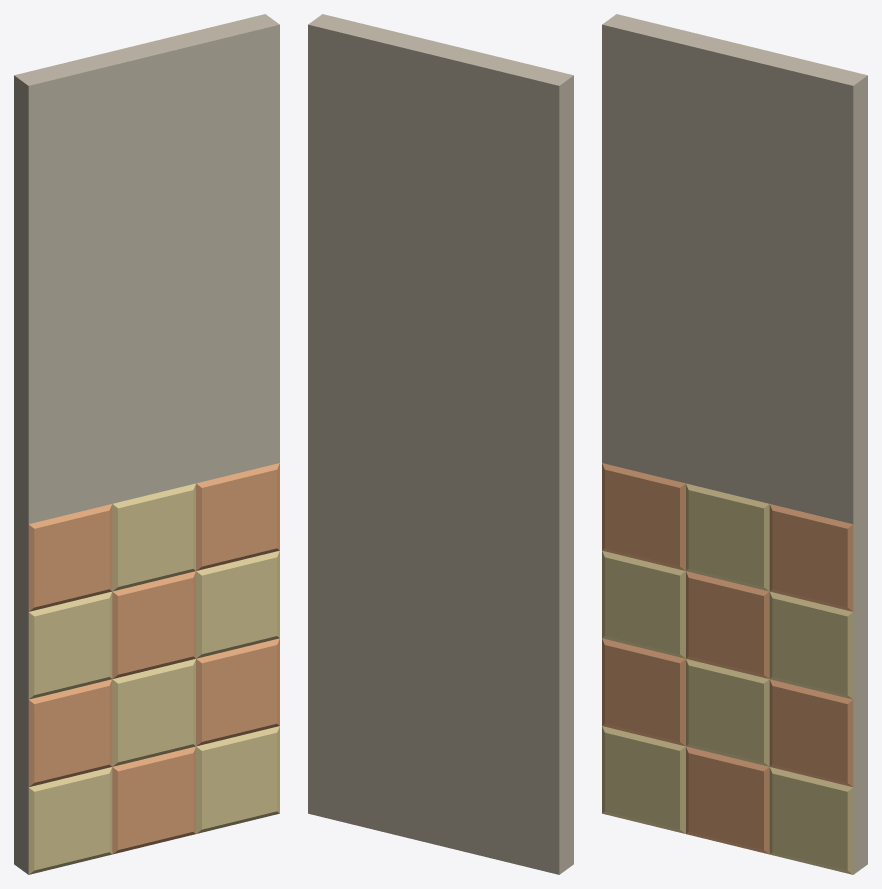
File: Mesh_WallHalfCeramic_P1.fbx
3 renders of one model, left to right at view 1: azimuth 30°, elevation 25°; view 2: azimuth 150°, elevation 25°; view 3: azimuth 330°, elevation 25°, orthographic.
Parts seen in each view (by area): view 1: Mesh_WallHalfCeramic_P1; view 2: Mesh_WallHalfCeramic_P1; view 3: Mesh_WallHalfCeramic_P1.
Part boxes in pixels (x1=…): Mesh_WallHalfCeramic_P1: x1=14, y1=14, x2=279, y2=874; Mesh_WallHalfCeramic_P1: x1=308, y1=14, x2=573, y2=874; Mesh_WallHalfCeramic_P1: x1=602, y1=14, x2=867, y2=874.
Bounding box in the file's own units: 1 × 3 × 0.1104.
